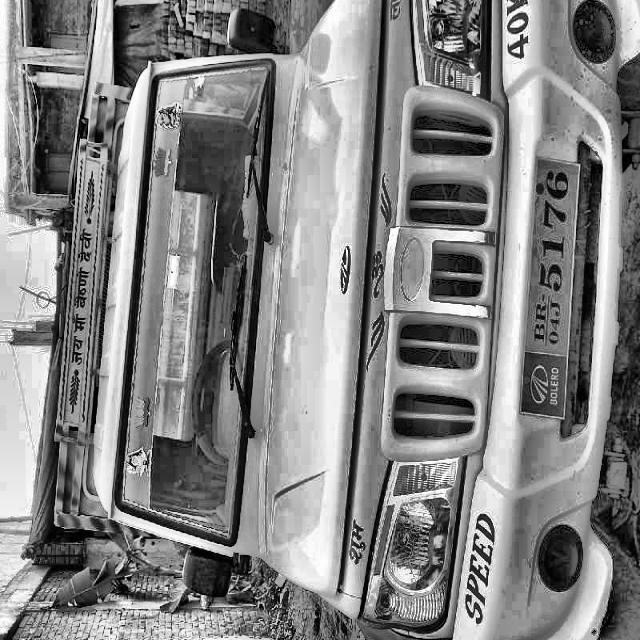light_vehicle: (43, 0, 640, 629)
